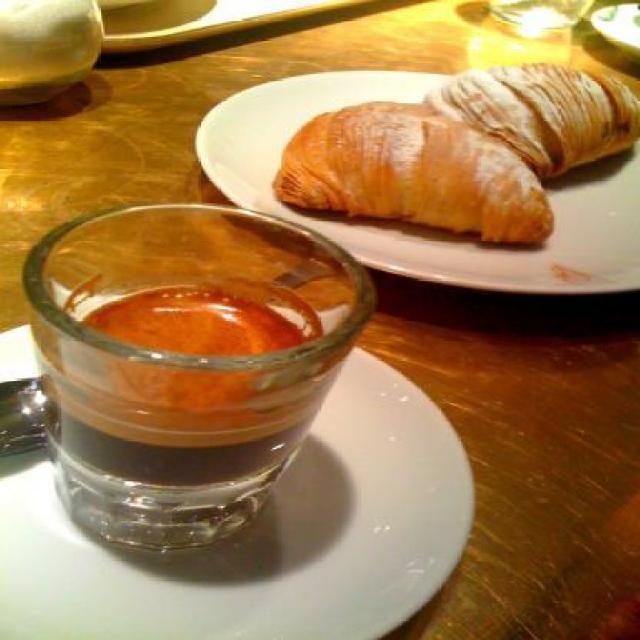Croissant: (270, 104, 555, 242), (415, 63, 640, 182)
